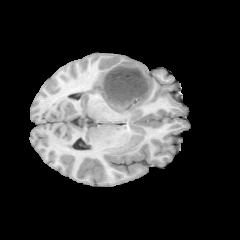glioma: (84, 61, 155, 127)
